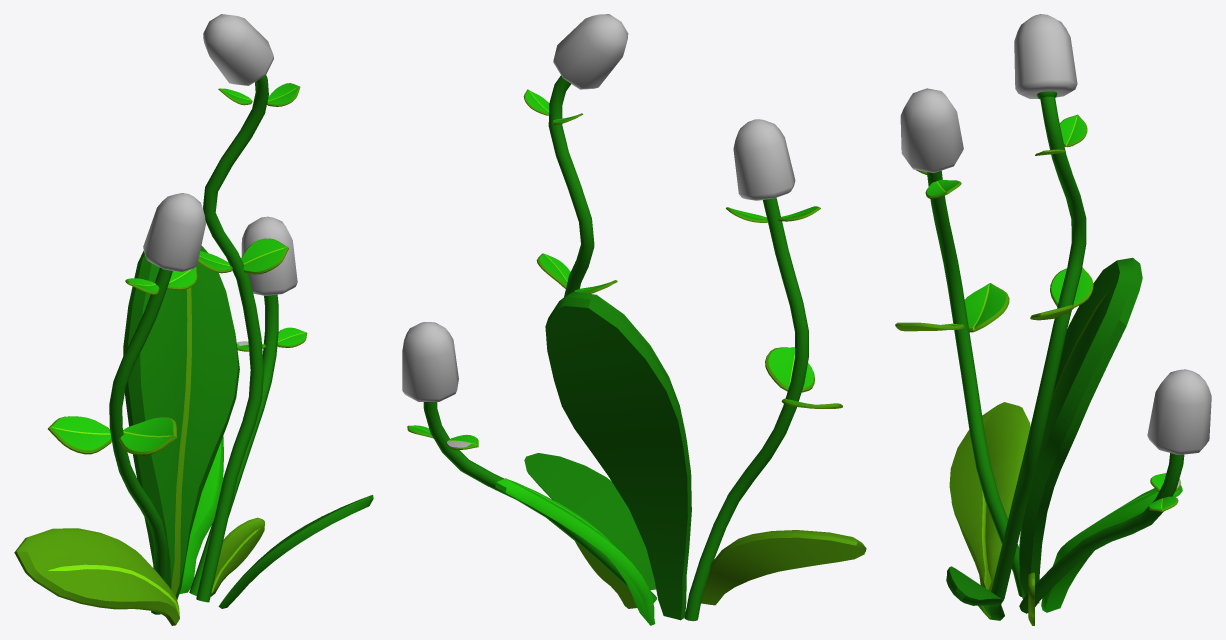
File: Shamrock.fbx
3 views of the same model, side by side, from view 1: azimuth 30°, elevation 25°; view 2: azimuth 150°, elevation 25°; view 3: azimuth 270°, elevation 25° (orthographic). The views are drawn at different scales.
Parts seen in each view (by area): view 1: Shamrock_LOD0; view 2: Shamrock_LOD0; view 3: Shamrock_LOD0.
Boxes of the visible parts, x1,y1,x2,y2 form: Shamrock_LOD0: (14, 14, 373, 625); Shamrock_LOD0: (402, 14, 866, 625); Shamrock_LOD0: (895, 14, 1211, 625).
Size of what is drawn, in the model's own units: 109 by 164 by 75.97.
